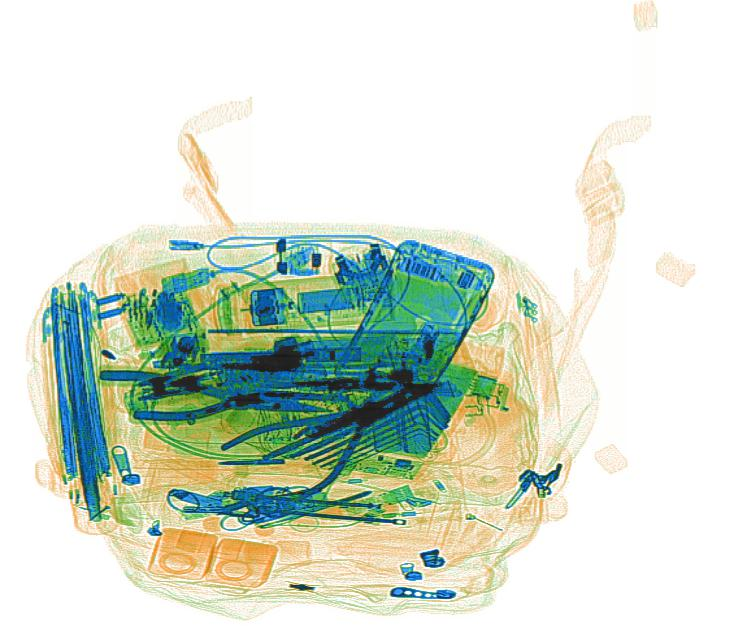battery: (296, 286, 362, 315)
